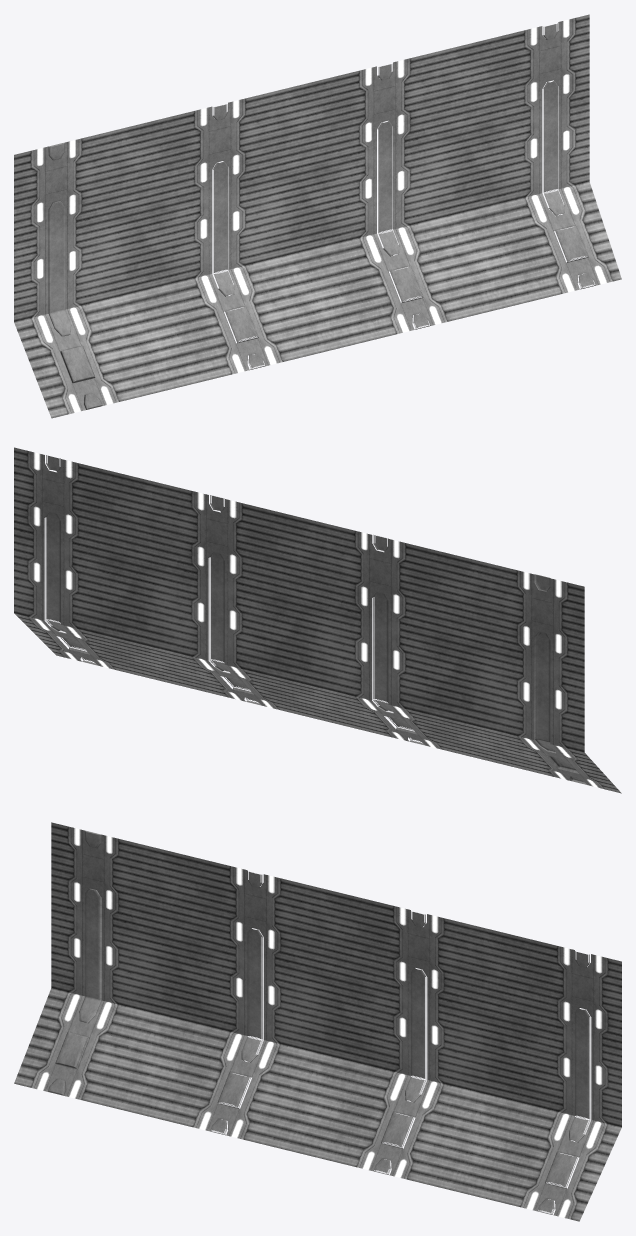
File: Wall_Clean_w_Bottom.fbx
3 views of the same model, one above another, from view 1: azimuth 30°, elevation 25°; view 2: azimuth 150°, elevation 25°; view 3: azimuth 330°, elevation 25° (orthographic).
Visible parts, largest first — view 1: Wall_Clean_w_Bottom; view 2: Wall_Clean_w_Bottom; view 3: Wall_Clean_w_Bottom.
Boxes of the visible parts, bbox=[...] form: Wall_Clean_w_Bottom: bbox=[14, 14, 621, 418]; Wall_Clean_w_Bottom: bbox=[14, 447, 621, 793]; Wall_Clean_w_Bottom: bbox=[14, 822, 621, 1221].
Bounding box in the file's own units: 764 × 299 × 88.12.
Materials: 1 (1 with a texture image).
